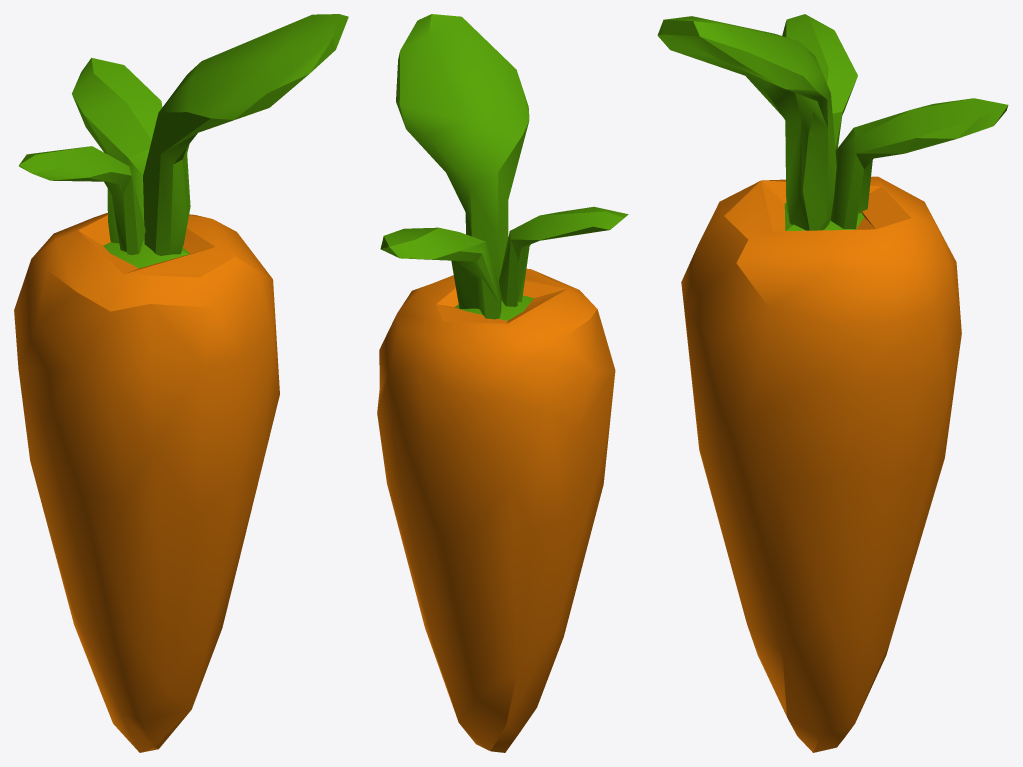
File: carrot.fbx
3 views of the same model, side by side, from view 1: azimuth 30°, elevation 25°; view 2: azimuth 150°, elevation 25°; view 3: azimuth 270°, elevation 25° (orthographic). The views are drawn at different scales.
Parts seen in each view (by area): view 1: Carrot.GR_4; view 2: Carrot.GR_4; view 3: Carrot.GR_4.
Boxes of the visible parts, <box> form: Carrot.GR_4: <box>14,14,348,752</box>; Carrot.GR_4: <box>377,14,628,752</box>; Carrot.GR_4: <box>657,14,1008,752</box>.
Size of the model in its own units: 10.42 by 26.54 by 10.58.
